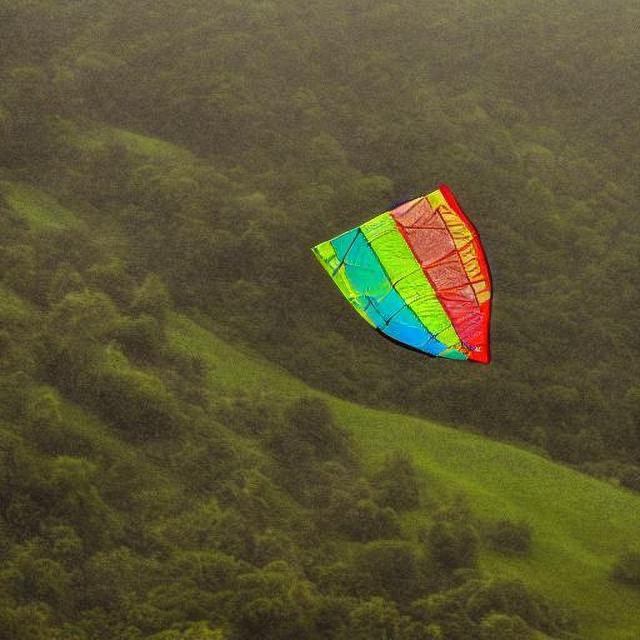floating object: (314, 186, 493, 362)
